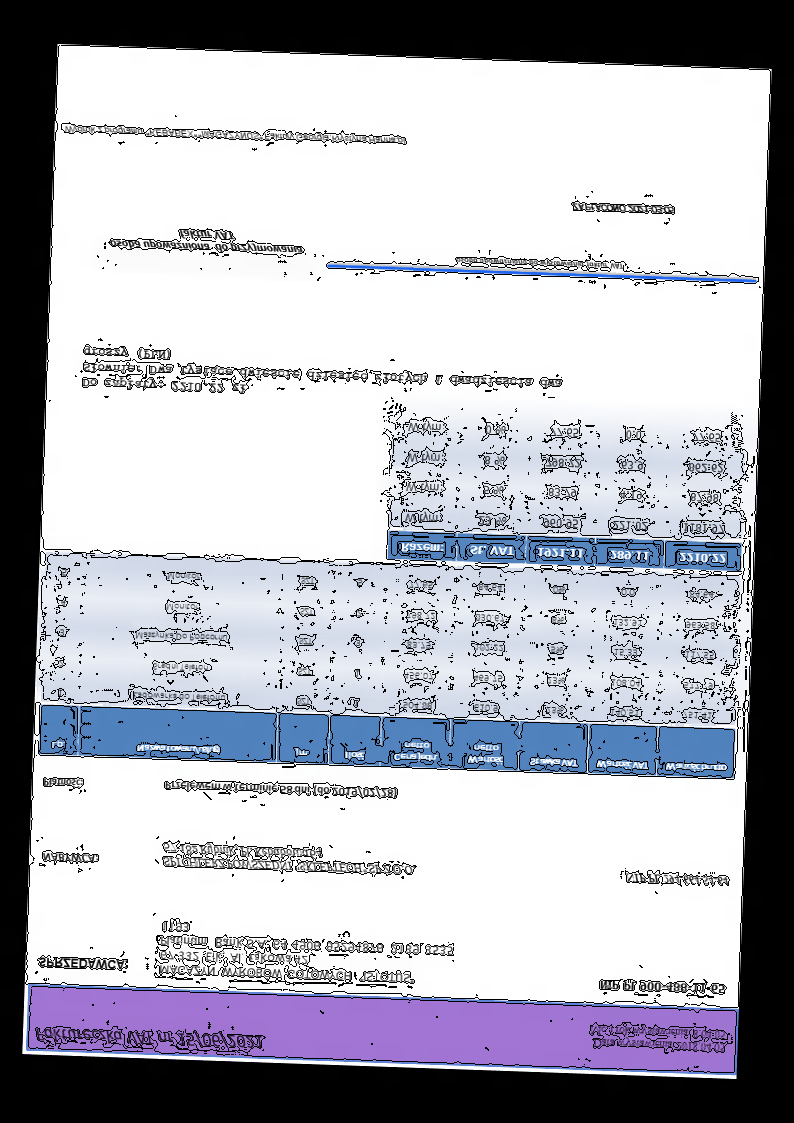Table: (37, 551, 742, 780), (386, 408, 748, 573)
TextBox: (80, 344, 566, 407), (156, 920, 456, 989), (161, 840, 418, 878), (62, 122, 408, 149), (107, 224, 306, 259), (33, 1025, 264, 1052), (163, 779, 398, 800), (588, 1024, 727, 1056), (453, 255, 625, 272), (596, 977, 726, 997), (623, 870, 729, 889), (36, 954, 130, 975), (569, 200, 675, 218), (40, 850, 100, 866), (41, 775, 85, 791)
